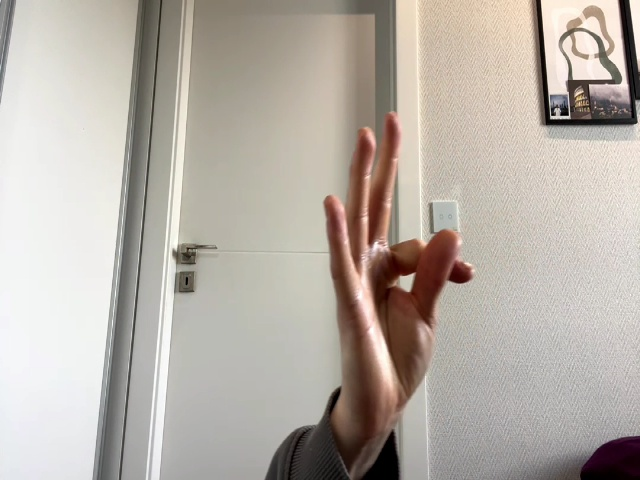T: (324, 111, 474, 408)
